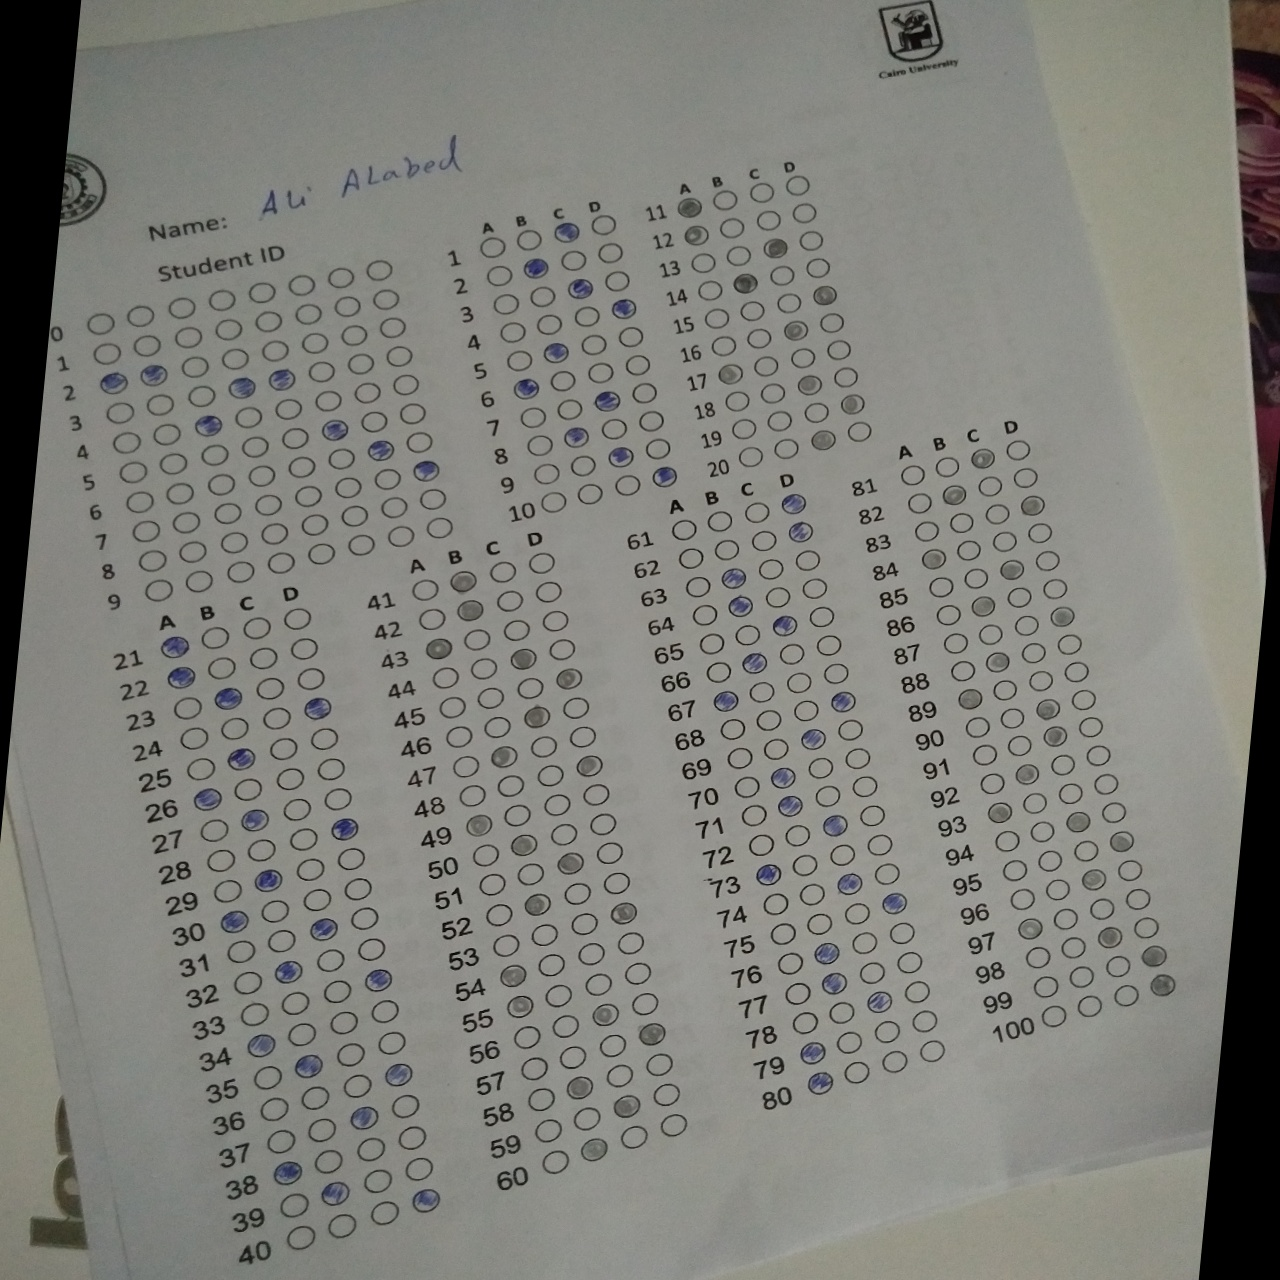not-c: (530, 1115, 566, 1143), (656, 1109, 693, 1137), (359, 1166, 395, 1194), (250, 1063, 286, 1091), (282, 1020, 319, 1048), (394, 1123, 431, 1150), (297, 1084, 334, 1111), (365, 998, 402, 1024), (275, 989, 313, 1016), (579, 971, 617, 998), (304, 1115, 339, 1143), (554, 1042, 590, 1070), (869, 1017, 904, 1046), (509, 1023, 545, 1050), (567, 1105, 604, 1132), (617, 1123, 653, 1150), (535, 1148, 571, 1175), (366, 1200, 402, 1227), (402, 1155, 438, 1182), (324, 1212, 360, 1239), (275, 1191, 312, 1218), (309, 1148, 346, 1175), (387, 1092, 423, 1119), (338, 1073, 374, 1099), (256, 1096, 292, 1123), (325, 1010, 361, 1037), (318, 978, 354, 1005), (613, 930, 649, 956), (620, 960, 656, 987), (515, 1055, 551, 1082), (626, 990, 662, 1017), (602, 1062, 639, 1089), (642, 1050, 679, 1077), (863, 830, 899, 857), (715, 715, 751, 742), (352, 1136, 389, 1162), (372, 1029, 409, 1055), (527, 921, 561, 949), (651, 1080, 686, 1107), (284, 1224, 319, 1251), (263, 1128, 298, 1155), (331, 1041, 366, 1068), (547, 1012, 583, 1039), (595, 1032, 631, 1058), (523, 1087, 558, 1114), (779, 979, 815, 1006), (599, 870, 634, 897), (726, 772, 762, 798), (735, 803, 771, 829), (801, 911, 837, 937), (847, 930, 884, 955), (913, 1039, 949, 1064), (122, 302, 156, 329), (571, 481, 605, 508), (798, 399, 832, 425), (304, 358, 338, 384), (754, 556, 788, 583), (1020, 944, 1054, 971), (1058, 659, 1092, 686), (1039, 576, 1073, 602), (481, 903, 516, 928), (477, 871, 512, 897), (743, 832, 778, 858), (757, 891, 792, 917), (765, 920, 801, 946), (771, 951, 806, 976), (893, 949, 928, 975), (788, 1009, 823, 1035), (855, 802, 890, 828), (468, 842, 503, 867), (488, 932, 524, 956), (899, 980, 935, 1005), (878, 1049, 914, 1074), (870, 860, 906, 885), (721, 745, 757, 770), (622, 350, 655, 377), (522, 433, 554, 459), (331, 474, 363, 501), (273, 765, 306, 792), (1003, 731, 1036, 758), (1053, 779, 1085, 806), (995, 704, 1028, 731), (701, 658, 734, 685), (951, 536, 983, 563), (939, 629, 972, 656), (362, 257, 396, 282), (130, 332, 164, 358), (721, 243, 755, 268), (788, 200, 822, 226), (707, 188, 741, 213), (576, 332, 610, 358), (785, 345, 819, 370), (736, 298, 770, 324), (566, 452, 600, 478), (185, 383, 219, 409), (102, 400, 136, 425), (382, 343, 416, 369), (263, 550, 297, 576), (277, 424, 311, 450), (181, 568, 215, 594), (166, 509, 200, 535), (142, 577, 176, 602), (161, 481, 195, 506), (370, 467, 404, 492), (358, 408, 392, 434), (349, 380, 383, 406), (338, 502, 372, 527), (285, 454, 319, 479), (257, 520, 291, 546), (703, 509, 737, 535), (307, 726, 341, 751), (245, 645, 279, 670), (545, 821, 579, 846), (448, 754, 482, 779), (184, 755, 218, 781), (481, 714, 515, 740), (566, 723, 600, 749), (828, 840, 862, 866), (847, 774, 881, 799), (535, 952, 568, 978), (1041, 877, 1075, 903), (1095, 799, 1129, 825), (1121, 885, 1155, 911), (1009, 612, 1043, 638), (1003, 584, 1037, 610), (1017, 640, 1051, 666), (1053, 631, 1087, 656), (1065, 686, 1099, 712), (744, 679, 778, 704), (729, 622, 763, 648), (1030, 547, 1064, 573), (903, 489, 937, 515), (987, 529, 1021, 554), (1022, 520, 1056, 546), (980, 501, 1014, 526), (944, 510, 978, 536), (1008, 463, 1042, 489), (971, 474, 1005, 499), (896, 461, 930, 486), (559, 881, 594, 906), (810, 784, 845, 809), (779, 823, 815, 847), (788, 851, 823, 876), (796, 880, 831, 905), (823, 1000, 858, 1024), (839, 901, 874, 926), (853, 959, 888, 983), (907, 1009, 942, 1034), (833, 1029, 869, 1054), (840, 745, 876, 770), (512, 860, 547, 885), (573, 942, 608, 967), (246, 462, 279, 488), (244, 279, 277, 305), (613, 324, 646, 349), (753, 207, 785, 233), (570, 304, 602, 329), (815, 311, 847, 336), (532, 311, 565, 336), (772, 290, 805, 315), (482, 263, 515, 288), (599, 268, 632, 294), (421, 515, 454, 540), (529, 461, 561, 486), (756, 380, 789, 406), (517, 406, 550, 431), (389, 372, 422, 397), (218, 346, 251, 372), (324, 264, 356, 290), (238, 434, 271, 459), (122, 489, 155, 515), (415, 486, 448, 512), (305, 542, 338, 567), (252, 490, 285, 516), (429, 665, 462, 690), (674, 545, 707, 571), (524, 550, 557, 576), (293, 666, 326, 692), (199, 625, 232, 651), (224, 938, 257, 964), (340, 876, 373, 901), (334, 846, 367, 872), (203, 847, 236, 873), (533, 763, 566, 789), (527, 733, 560, 758), (931, 602, 964, 628), (1075, 713, 1108, 738), (990, 829, 1023, 855), (1085, 896, 1118, 921), (1129, 915, 1162, 941), (1111, 981, 1144, 1007), (947, 659, 980, 685), (811, 632, 844, 658), (804, 602, 837, 628), (694, 631, 727, 656), (284, 272, 318, 297), (204, 287, 238, 312), (715, 215, 749, 239), (779, 172, 813, 197), (748, 354, 782, 379), (583, 360, 617, 384), (742, 326, 776, 350), (501, 347, 535, 372), (801, 256, 835, 280), (486, 292, 520, 316), (525, 285, 559, 309), (554, 248, 588, 273), (588, 213, 622, 238), (610, 474, 644, 498), (840, 418, 874, 443), (828, 365, 862, 389), (554, 396, 588, 421), (374, 314, 408, 339), (179, 354, 213, 379), (369, 286, 403, 311), (291, 300, 325, 325), (211, 316, 245, 341), (376, 495, 410, 519), (324, 445, 358, 470), (271, 397, 305, 422), (110, 430, 144, 455), (297, 511, 331, 536), (383, 524, 417, 549), (291, 483, 325, 508), (455, 783, 489, 808), (499, 617, 533, 641), (492, 588, 526, 613), (747, 527, 781, 552), (710, 537, 744, 561), (486, 559, 520, 584), (217, 716, 251, 741), (252, 676, 286, 701), (287, 635, 321, 660), (281, 605, 315, 629), (592, 839, 626, 864), (493, 772, 527, 797), (440, 724, 474, 749), (585, 811, 619, 836), (237, 1001, 271, 1026), (346, 905, 380, 930), (284, 826, 318, 851), (244, 838, 278, 863), (279, 797, 313, 822), (434, 695, 468, 720), (474, 685, 508, 709), (467, 655, 501, 680), (1005, 886, 1039, 911), (998, 857, 1032, 881), (1070, 838, 1104, 863), (1048, 906, 1082, 931), (1073, 993, 1107, 1017), (922, 574, 956, 599), (758, 735, 792, 760), (753, 707, 787, 731), (772, 641, 806, 666), (761, 585, 795, 610), (908, 519, 942, 544), (1001, 435, 1035, 459), (930, 452, 964, 477), (840, 1058, 872, 1084), (1065, 964, 1097, 989), (170, 325, 203, 349), (89, 341, 122, 366), (164, 297, 197, 321), (82, 312, 115, 336), (421, 516, 454, 540), (745, 181, 778, 205), (707, 333, 740, 358), (701, 306, 734, 331), (764, 264, 797, 288), (692, 278, 724, 302), (686, 251, 719, 275), (495, 320, 527, 345), (512, 227, 545, 252), (475, 236, 508, 260), (537, 490, 570, 515), (642, 436, 675, 461), (635, 408, 668, 433), (598, 416, 631, 441), (727, 416, 760, 441), (764, 408, 797, 433), (733, 445, 765, 470), (769, 435, 802, 459), (721, 388, 754, 413), (627, 381, 660, 406), (143, 392, 176, 416), (336, 322, 369, 347), (298, 331, 331, 355), (259, 338, 292, 362), (331, 295, 363, 320), (252, 309, 285, 334), (530, 579, 563, 604), (129, 519, 162, 544), (134, 549, 166, 573), (116, 459, 149, 484), (155, 452, 188, 477), (403, 429, 436, 454), (311, 388, 343, 413), (230, 404, 263, 429), (217, 530, 250, 554), (345, 532, 377, 557), (211, 501, 244, 525), (414, 606, 447, 631), (668, 517, 701, 542), (408, 577, 441, 601), (259, 706, 292, 730), (177, 726, 210, 750), (204, 655, 237, 680), (239, 615, 272, 640), (501, 803, 533, 828), (542, 792, 574, 817), (231, 971, 264, 995), (354, 937, 387, 961), (301, 887, 334, 912), (258, 898, 291, 922), (293, 857, 326, 881), (321, 787, 354, 811), (197, 817, 230, 842), (267, 736, 300, 761), (558, 695, 591, 720), (515, 676, 547, 701), (545, 636, 578, 661), (539, 610, 572, 634), (1032, 846, 1064, 871), (1082, 743, 1115, 768), (1047, 751, 1080, 776), (975, 770, 1008, 795), (1089, 771, 1122, 796), (1017, 790, 1050, 815), (1026, 818, 1058, 843), (1116, 857, 1149, 881), (1028, 974, 1061, 999), (1037, 1005, 1070, 1029), (958, 566, 990, 591), (1024, 668, 1057, 693), (988, 676, 1021, 701), (804, 756, 837, 781), (833, 717, 866, 742), (790, 697, 823, 722), (819, 660, 852, 685), (782, 670, 815, 695), (798, 576, 831, 600), (688, 602, 721, 627), (790, 547, 823, 572), (974, 621, 1007, 646), (546, 369, 580, 393), (175, 539, 209, 563), (222, 559, 256, 583), (459, 627, 493, 651), (740, 501, 774, 524), (313, 948, 347, 972), (209, 879, 243, 903), (313, 757, 347, 781), (579, 783, 613, 806), (961, 714, 993, 738), (968, 742, 1000, 767), (1057, 937, 1089, 961), (1103, 953, 1135, 978), (885, 920, 917, 945), (795, 229, 828, 252), (593, 241, 626, 265), (822, 338, 855, 361), (197, 443, 230, 467), (396, 402, 429, 425), (149, 422, 182, 445), (204, 472, 237, 496), (681, 576, 714, 599), (172, 695, 205, 719), (264, 930, 297, 953), (230, 777, 263, 801)
taken-c: (270, 1158, 306, 1186), (806, 425, 840, 452), (794, 372, 828, 399), (1137, 942, 1171, 969), (996, 556, 1030, 583), (679, 222, 712, 248), (670, 195, 704, 220), (937, 482, 971, 508), (779, 318, 813, 343), (728, 268, 762, 294), (539, 340, 573, 366), (561, 275, 595, 301), (224, 745, 258, 771), (164, 665, 198, 690), (157, 633, 191, 659), (365, 437, 399, 463), (191, 413, 225, 438), (96, 370, 130, 396), (707, 688, 741, 714), (506, 645, 540, 670), (447, 568, 481, 594), (876, 890, 910, 915), (833, 870, 867, 896), (1145, 972, 1179, 998), (1092, 924, 1126, 949), (1012, 915, 1046, 941), (765, 764, 799, 790), (983, 649, 1017, 675), (1046, 604, 1080, 629), (608, 1092, 642, 1118), (862, 989, 896, 1015), (816, 971, 850, 996), (190, 787, 224, 812), (243, 1032, 277, 1057), (291, 1053, 325, 1078), (508, 831, 542, 857), (574, 754, 608, 779), (809, 281, 842, 307), (758, 234, 791, 260), (211, 685, 244, 710), (265, 366, 298, 392), (224, 375, 257, 401), (518, 704, 551, 730), (553, 666, 586, 692), (422, 635, 455, 661), (750, 862, 783, 887), (1104, 828, 1137, 853), (982, 799, 1015, 825), (775, 792, 808, 818), (796, 726, 829, 751), (1010, 761, 1043, 787), (954, 686, 987, 712), (1017, 493, 1050, 519), (503, 992, 536, 1017), (796, 1040, 829, 1065), (238, 806, 271, 832), (306, 917, 339, 942), (362, 967, 395, 993), (382, 1062, 415, 1088), (602, 444, 636, 469), (966, 445, 1000, 470), (835, 392, 869, 416), (557, 425, 591, 450), (550, 218, 584, 243), (737, 651, 771, 675), (768, 613, 802, 638), (724, 594, 758, 619), (717, 565, 751, 590), (452, 598, 486, 622), (1075, 866, 1109, 891), (1060, 810, 1094, 835), (1039, 724, 1073, 749), (588, 1001, 622, 1026), (576, 1136, 610, 1160), (809, 941, 843, 966), (252, 869, 286, 893), (219, 908, 253, 933), (271, 959, 305, 983), (408, 1189, 442, 1213), (554, 850, 588, 874), (519, 891, 553, 915), (648, 464, 681, 489), (777, 491, 810, 516), (713, 360, 745, 384), (590, 388, 622, 413), (510, 376, 543, 401), (607, 295, 640, 320), (517, 256, 550, 280), (409, 458, 442, 483), (318, 417, 350, 442), (137, 362, 170, 387), (967, 594, 1000, 619), (782, 520, 815, 545), (917, 546, 949, 571), (488, 744, 520, 769), (301, 696, 334, 721), (818, 813, 851, 838), (826, 689, 859, 714), (1032, 696, 1064, 721), (563, 1075, 595, 1099), (635, 1021, 668, 1046), (804, 1070, 837, 1095), (327, 816, 360, 840), (348, 1105, 381, 1130), (319, 1180, 352, 1205), (463, 813, 496, 838), (607, 901, 640, 926), (495, 964, 527, 988)
